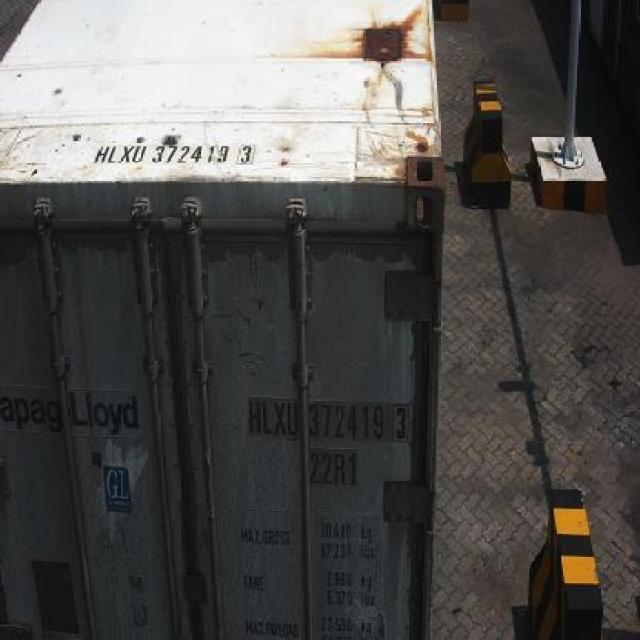ISO: (309, 455, 356, 487)
container_number: (242, 387, 415, 452)
